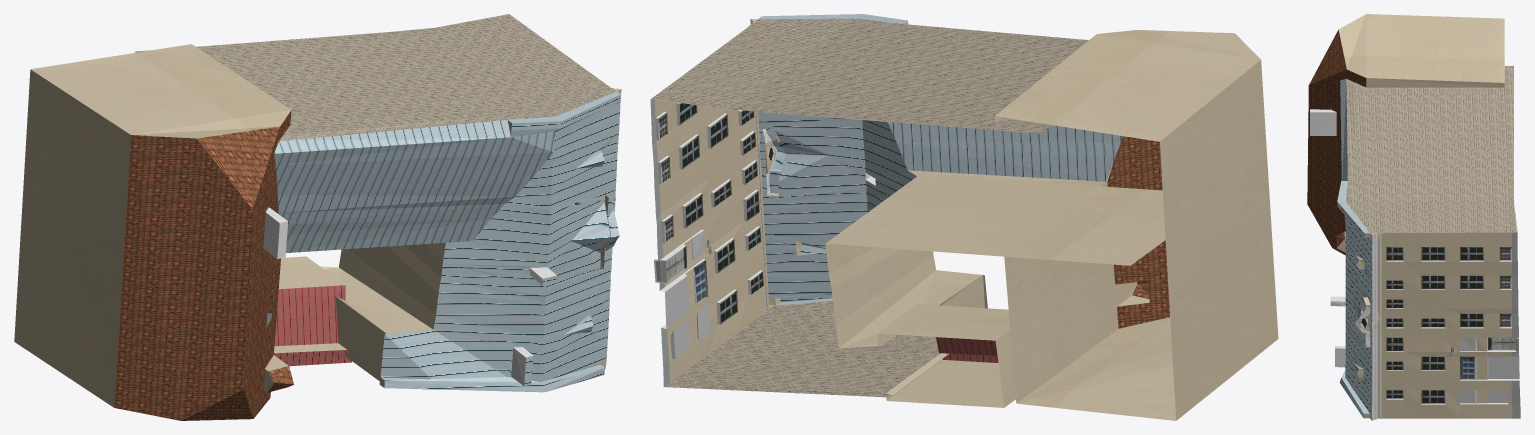
File: Ryytli14_res-origo.obj
3 views of the same model, side by side, from view 1: azimuth 30°, elevation 25°; view 2: azimuth 150°, elevation 25°; view 3: azimuth 270°, elevation 25° (orthographic). The views are drawn at different scales.
Visible parts, largest first — view 1: Ryytli14; view 2: Ryytli14; view 3: Ryytli14.
Boxes of the visible parts, x1=… form: Ryytli14: x1=14, y1=14, x2=621, y2=420; Ryytli14: x1=650, y1=14, x2=1278, y2=420; Ryytli14: x1=1307, y1=14, x2=1520, y2=420.
Bounding box in the file's own units: 37.88 × 25 × 19.72.
